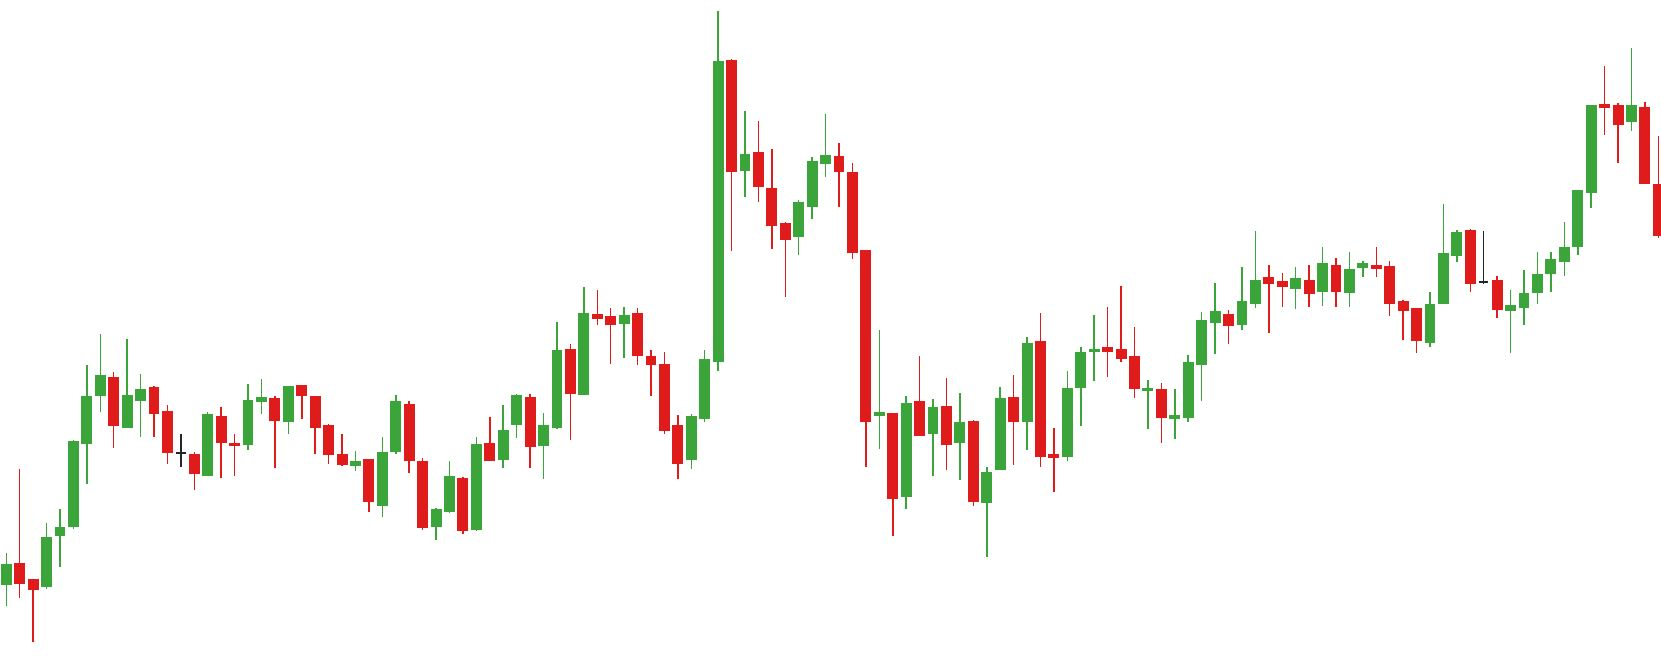buy: (562, 344, 698, 474), (1263, 272, 1437, 356), (886, 442, 995, 562), (360, 443, 457, 538)
sell: (753, 112, 832, 224)
